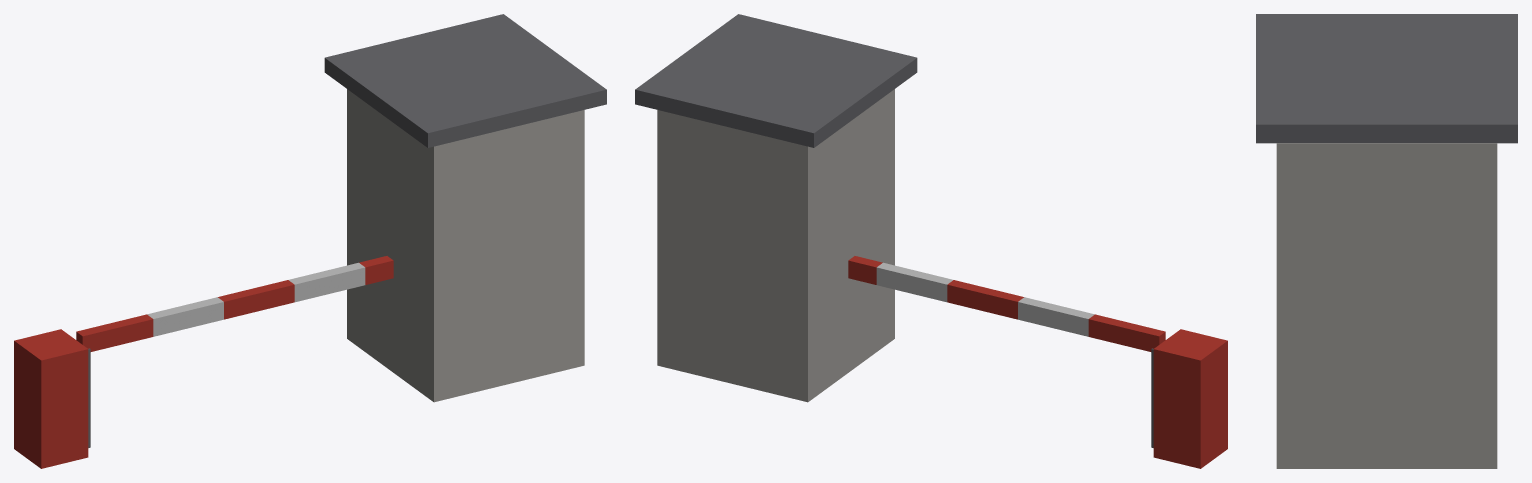
The model's file is checkpoint-gate.glb.
3 renders of one model, left to right at view 1: azimuth 30°, elevation 25°; view 2: azimuth 150°, elevation 25°; view 3: azimuth 270°, elevation 25°, orthographic. The views are drawn at different scales.
Visible parts, largest first — view 1: Cube, Cube.002, Cube.003, Cube.004, Cube.007, Cube.005, Cube.006, Cube.008; view 2: Cube, Cube.002, Cube.003, Cube.004, Cube.007, Cube.005, Cube.006, Cube.008; view 3: Cube, Cube.002.
Boxes of the visible parts, box(x1,y1,x2,y2) form: Cube: box(347, 89, 584, 402); Cube.002: box(324, 14, 606, 147); Cube.003: box(14, 329, 88, 468); Cube.004: box(76, 314, 153, 351); Cube.007: box(289, 262, 365, 302); Cube.005: box(147, 297, 223, 336); Cube.006: box(218, 280, 294, 319); Cube.008: box(359, 256, 393, 284); Cube: box(657, 89, 894, 402); Cube.002: box(635, 14, 917, 147); Cube.003: box(1153, 329, 1227, 468); Cube.004: box(1088, 314, 1165, 351); Cube.007: box(876, 262, 952, 302); Cube.005: box(1018, 297, 1094, 336); Cube.006: box(947, 280, 1023, 319); Cube.008: box(848, 256, 882, 284); Cube: box(1276, 143, 1497, 468); Cube.002: box(1256, 14, 1517, 143).
Size of what is drawn, in the model's own units: 5.6 by 2.83 by 1.9.
